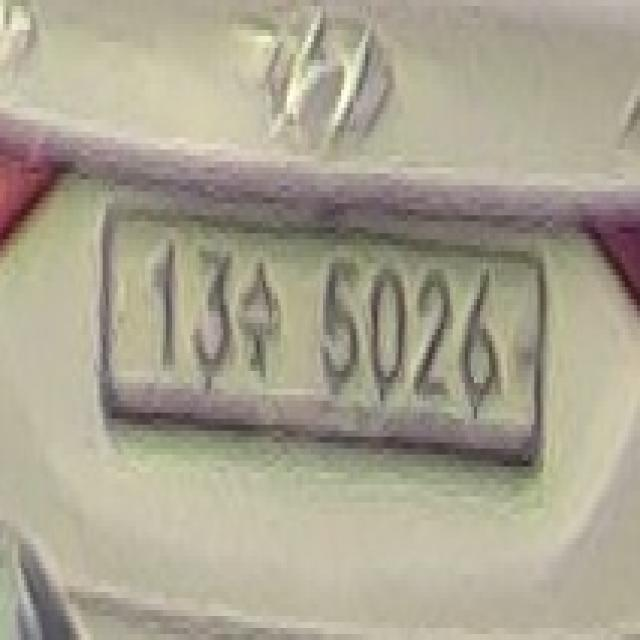0: (368, 251, 411, 413)
1: (139, 233, 184, 389)
2: (410, 263, 459, 413)
3: (190, 245, 236, 389)
5: (317, 257, 368, 401)
6: (462, 269, 507, 419)
license_plate: (96, 185, 546, 490)
su: (238, 257, 287, 395)
